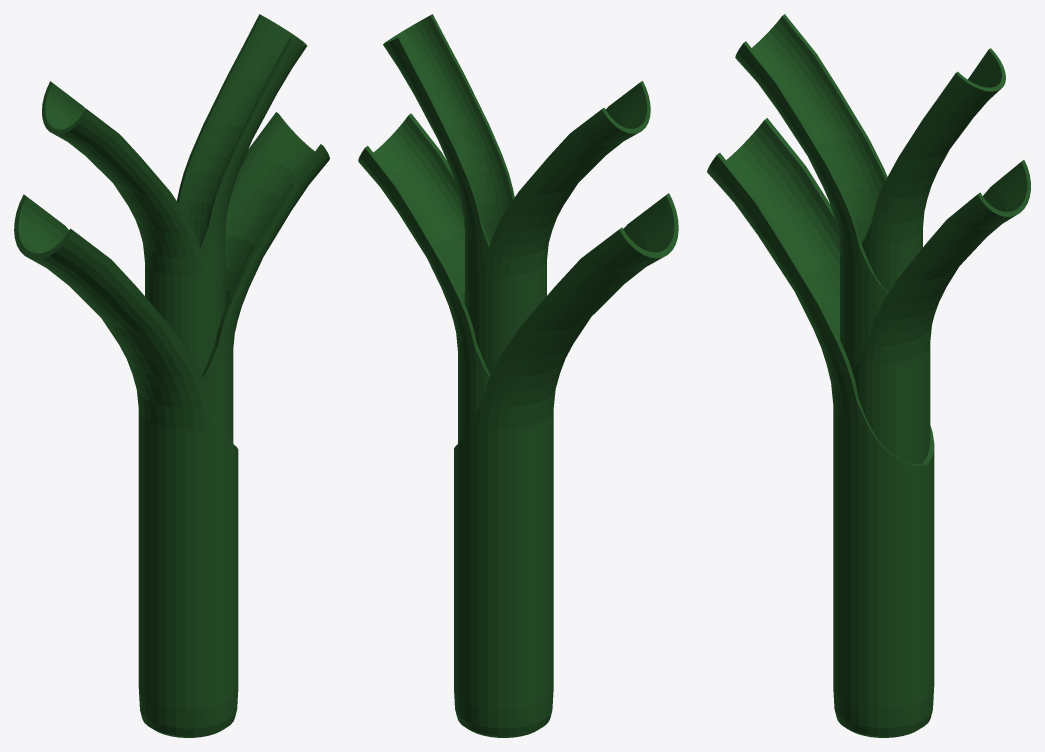
Rendered from Lauch.fbx.
3 renders of one model, left to right at view 1: azimuth 30°, elevation 25°; view 2: azimuth 150°, elevation 25°; view 3: azimuth 330°, elevation 25°, orthographic.
Parts seen in each view (by area): view 1: Halm; view 2: Halm; view 3: Halm.
Boxes of the visible parts, x1,y1,x2,y2 form: Halm: (14,14,329,737); Halm: (358,14,678,737); Halm: (707,14,1030,737).
Bounding box in the file's own units: 685 × 1501 × 202.
